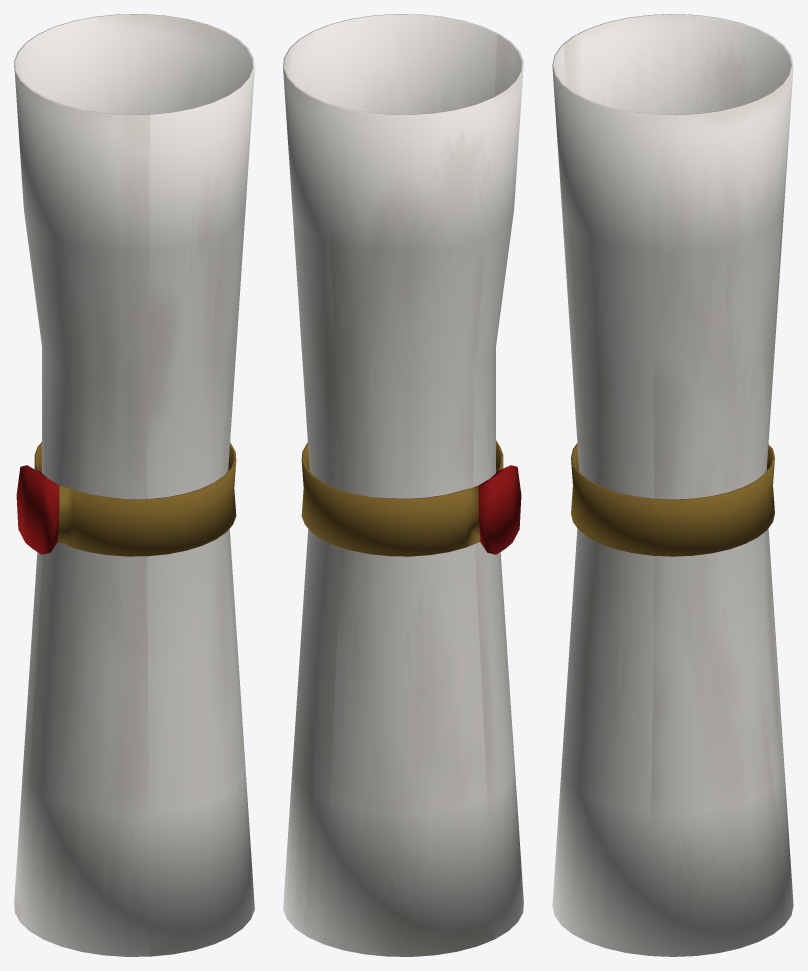
The model's file is scroll.fbx.
The picture shows the model from 3 angles, left to right: view 1: azimuth 30°, elevation 25°; view 2: azimuth 150°, elevation 25°; view 3: azimuth 270°, elevation 25°; orthographic projection.
Visible parts, largest first — view 1: Cylinder_001; view 2: Cylinder_001; view 3: Cylinder_001.
Boxes of the visible parts, x1,y1,x2,y2 form: Cylinder_001: [14, 14, 254, 956]; Cylinder_001: [283, 14, 523, 956]; Cylinder_001: [552, 14, 793, 956].
Bounding box in the file's own units: 0.1396 × 0.5371 × 0.1396.
